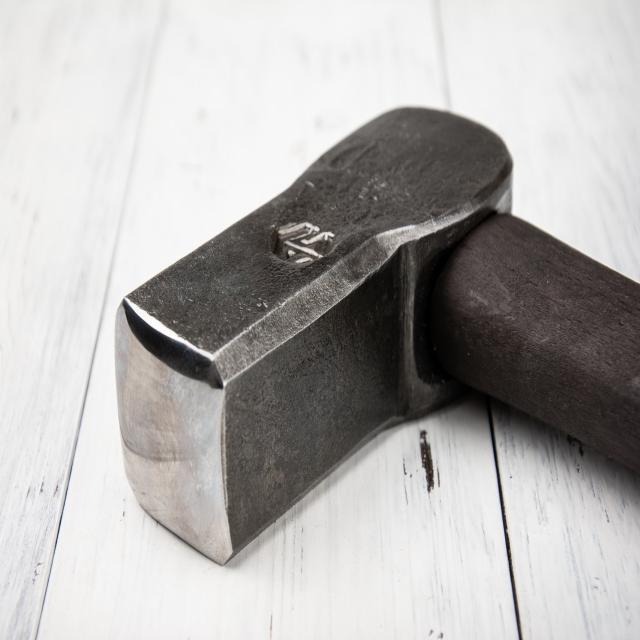hammer: (81, 98, 640, 574)
